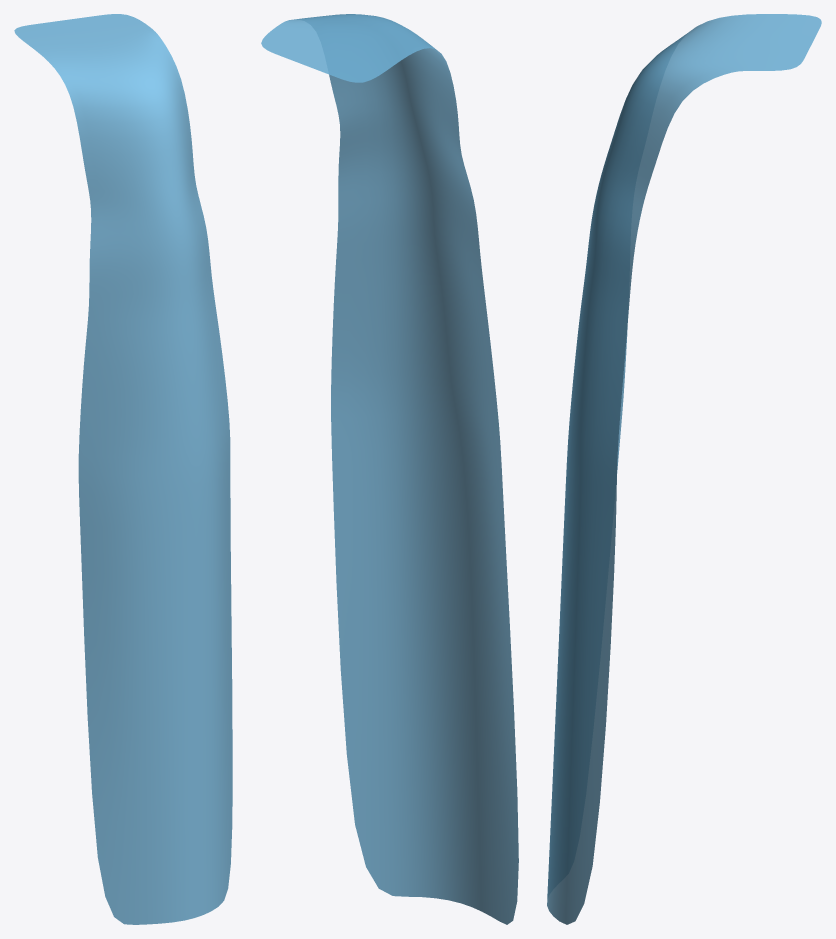
The model's file is waterfall 1.fbx.
3 views of the same model, side by side, from view 1: azimuth 30°, elevation 25°; view 2: azimuth 150°, elevation 25°; view 3: azimuth 270°, elevation 25° (orthographic). The views are drawn at different scales.
Parts seen in each view (by area): view 1: Plane; view 2: Plane; view 3: Plane.
Part boxes in pixels (<box>): Plane: <box>14,14,232,924</box>; Plane: <box>261,14,518,924</box>; Plane: <box>547,14,821,924</box>.
Bounding box in the file's own units: 744 × 3831 × 1107.
